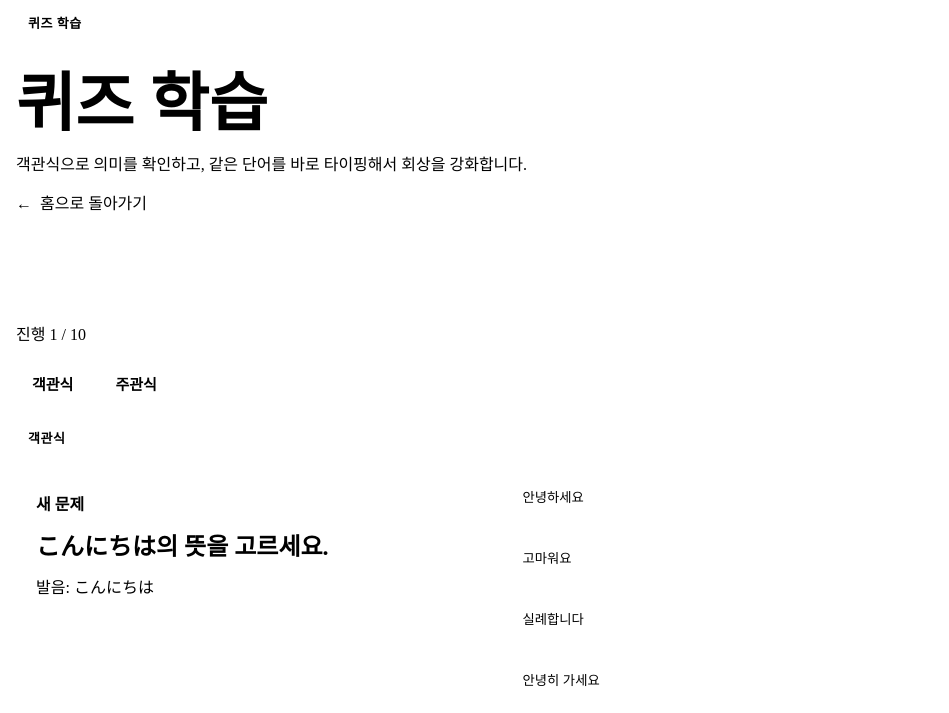
it: quiz ui › uses multiple choice as the default mode and switches to short answer
Click the button "주관식": (136, 383) [99,363,173,404]
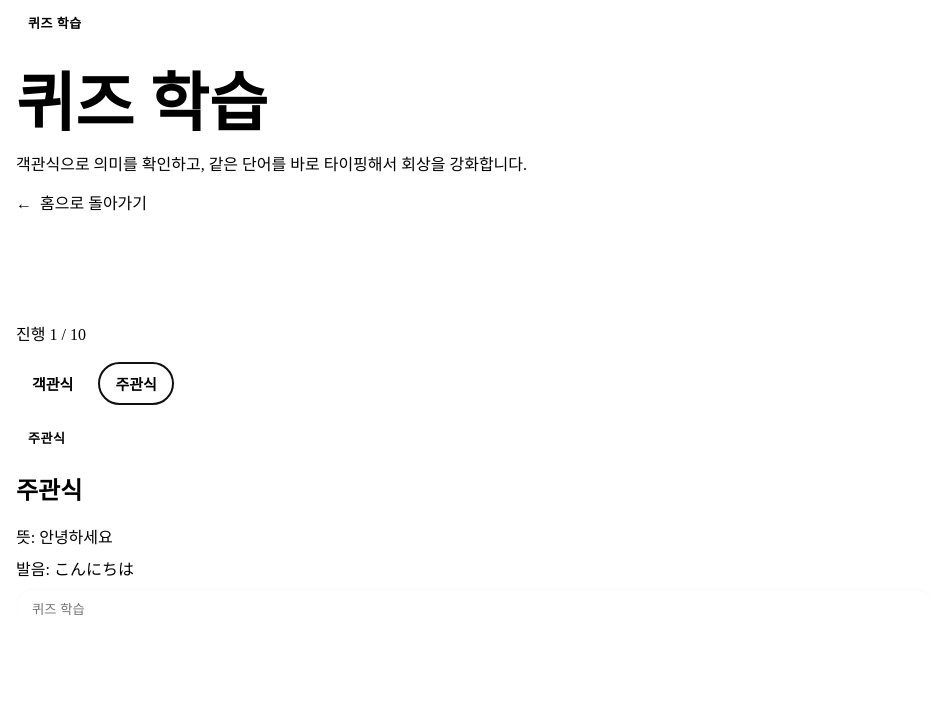
Result: the field named "주관식 정답" is shown at [16,588,932,631]
